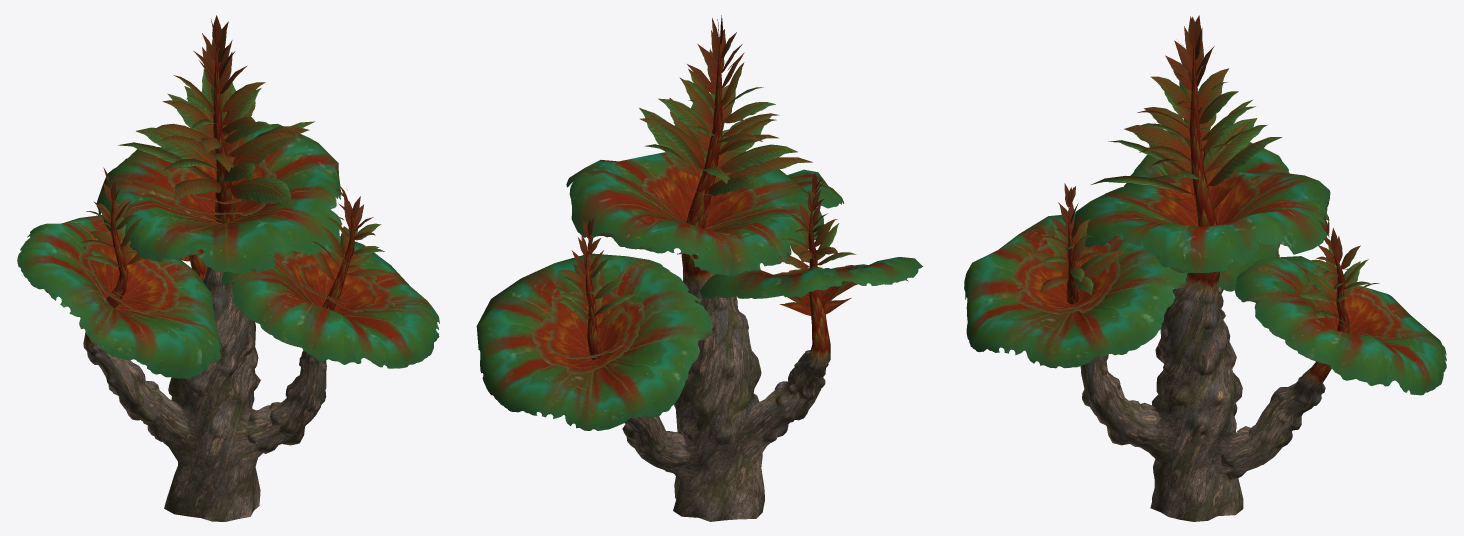
File: Plant - Alien Plant 11 1-DL24eo1t.glb
The picture shows the model from 3 angles, left to right: view 1: azimuth 30°, elevation 25°; view 2: azimuth 150°, elevation 25°; view 3: azimuth 270°, elevation 25°; orthographic projection.
Visible parts, largest first — view 1: Plant_11_1_L0(Clone); view 2: Plant_11_1_L0(Clone); view 3: Plant_11_1_L0(Clone).
Part boxes in pixels (x1=…): Plant_11_1_L0(Clone): x1=17, y1=15, x2=439, y2=521; Plant_11_1_L0(Clone): x1=476, y1=15, x2=923, y2=521; Plant_11_1_L0(Clone): x1=964, y1=15, x2=1446, y2=521.
Size of the model in its own units: 3.98 by 5.19 by 4.69.
2 materials, 2 textured.
